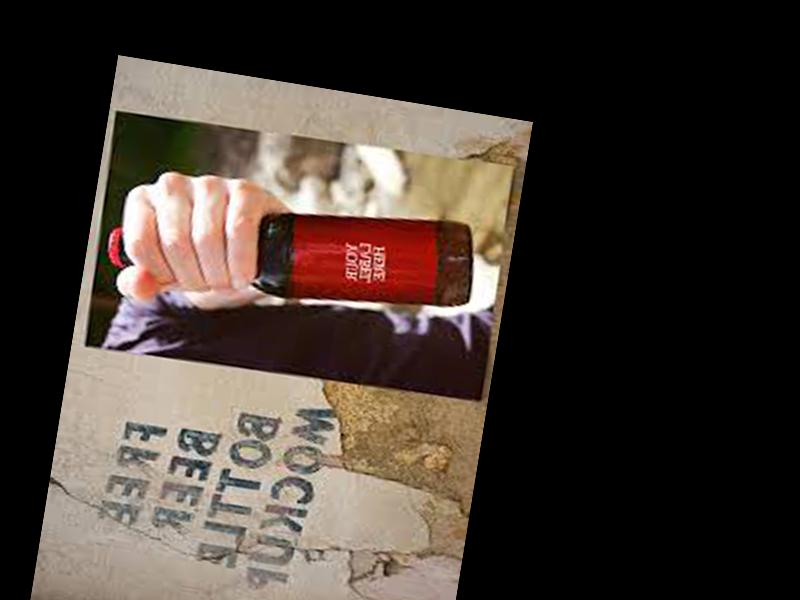Beer: (105, 167, 481, 324)
